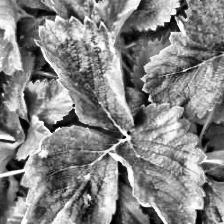Powdery Mildew Leaf: (108, 101, 208, 224), (32, 15, 134, 132), (17, 124, 123, 224), (0, 0, 27, 76)
